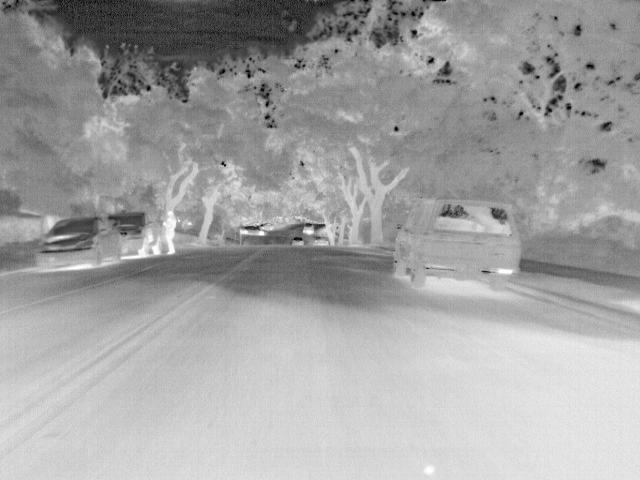car: (390, 194, 522, 292), (37, 215, 115, 269), (116, 209, 160, 258), (240, 225, 265, 236), (302, 222, 315, 236), (290, 236, 304, 248), (314, 238, 326, 247)
person: (162, 210, 176, 255)
